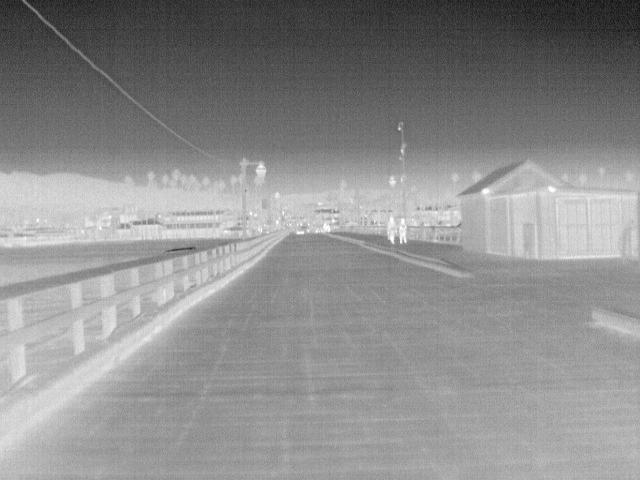person: (386, 214, 399, 246), (398, 216, 411, 246)
